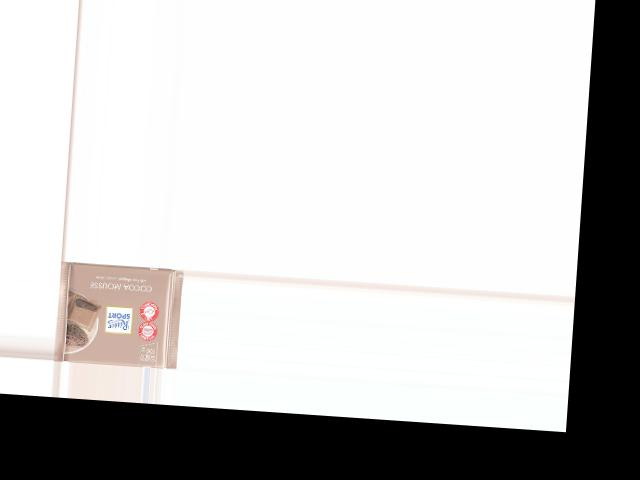chocolate: (54, 260, 181, 368)
